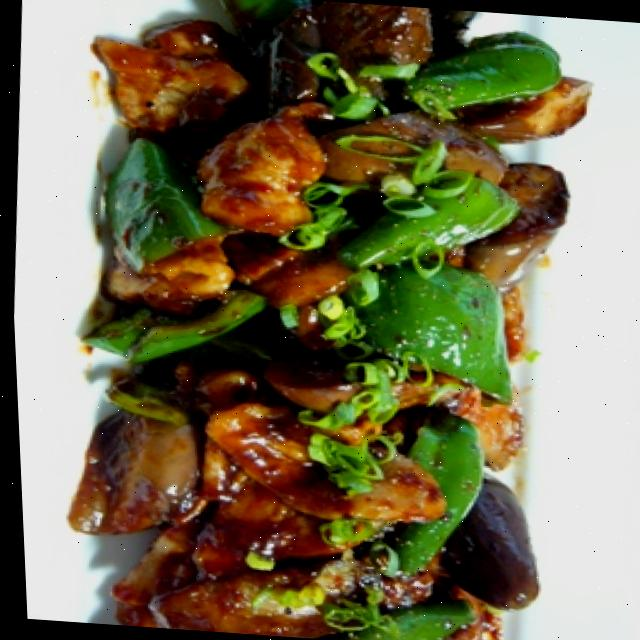鸡蛋料理: (30, 0, 621, 640)
